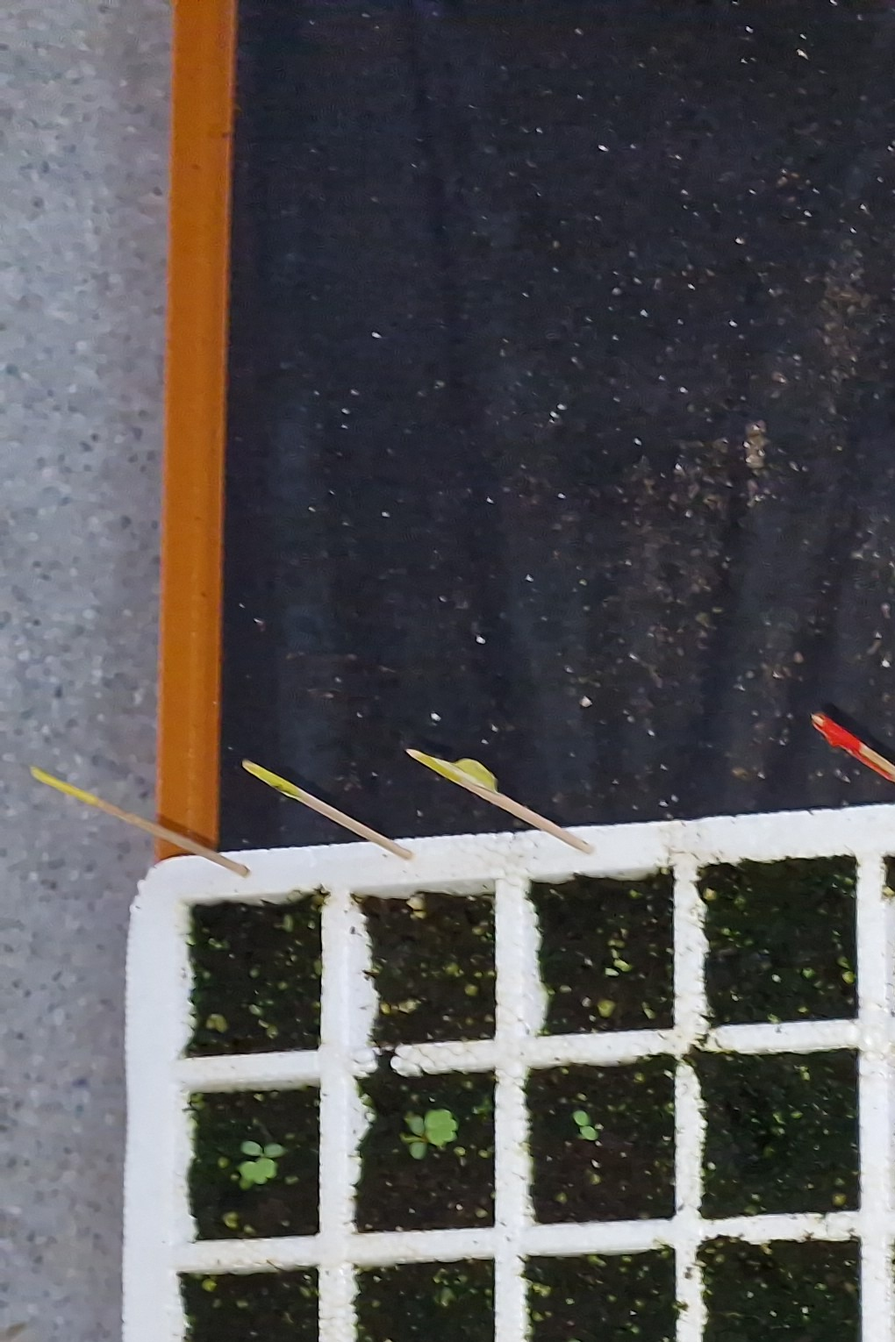Folha: (425, 1109, 457, 1147), (240, 1158, 275, 1185), (405, 1115, 424, 1135), (410, 1142, 427, 1160), (241, 1141, 261, 1156), (264, 1143, 284, 1158), (573, 1111, 589, 1125), (581, 1126, 596, 1140), (399, 1133, 420, 1141)
Germinacao: (400, 1109, 458, 1159), (239, 1141, 284, 1184), (574, 1112, 598, 1141)
